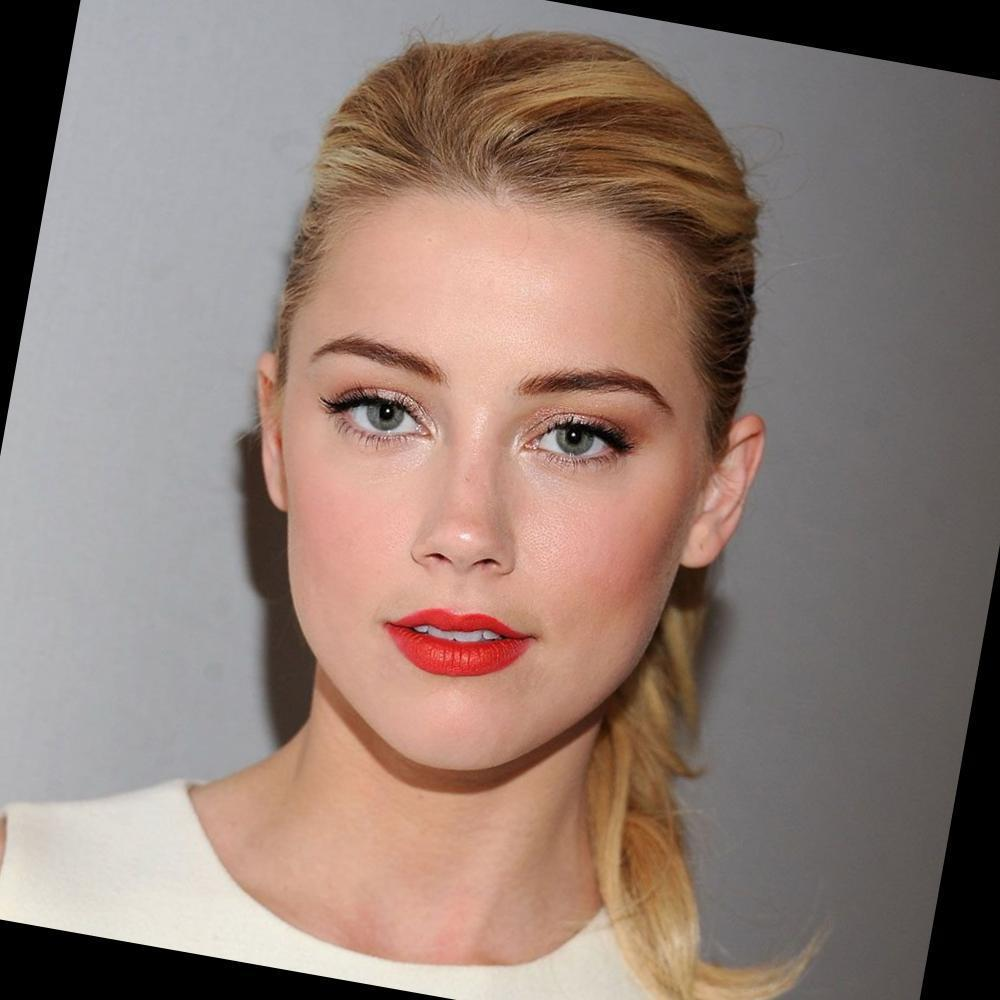Sober: (315, 208, 680, 738)
